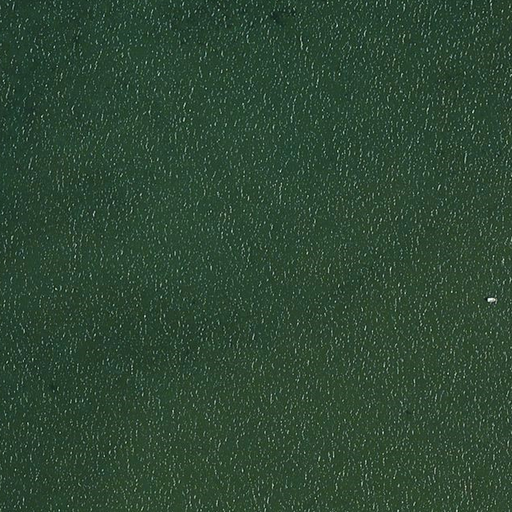ship: (483, 294, 499, 306)
